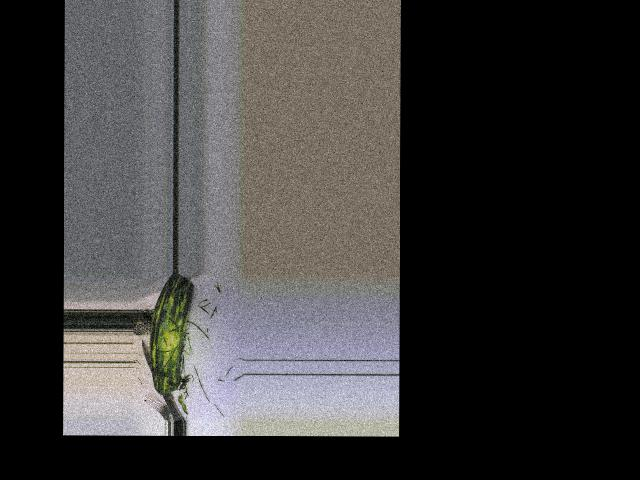cucumber: (150, 274, 194, 394)
